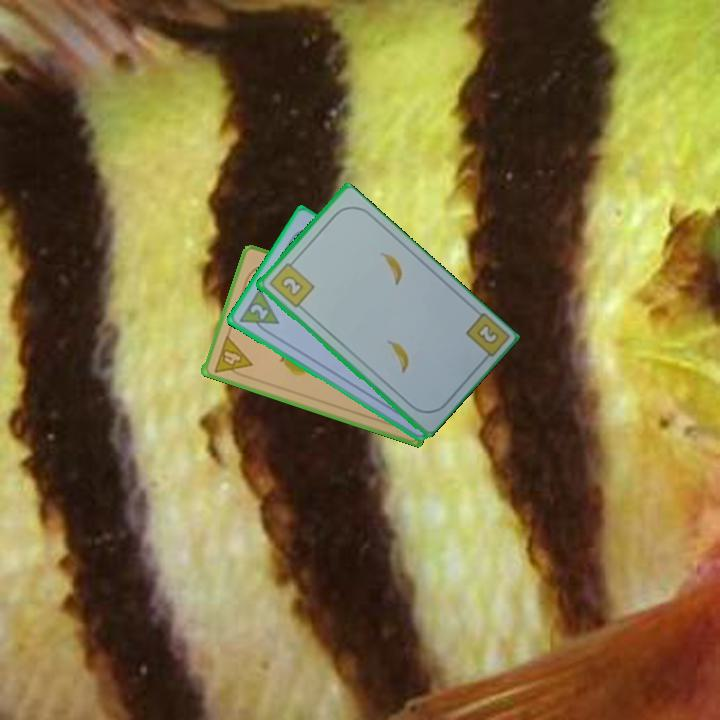2b: (265, 256, 317, 311), (461, 309, 510, 367)
2p: (246, 300, 271, 323)
4p: (210, 332, 254, 381)
